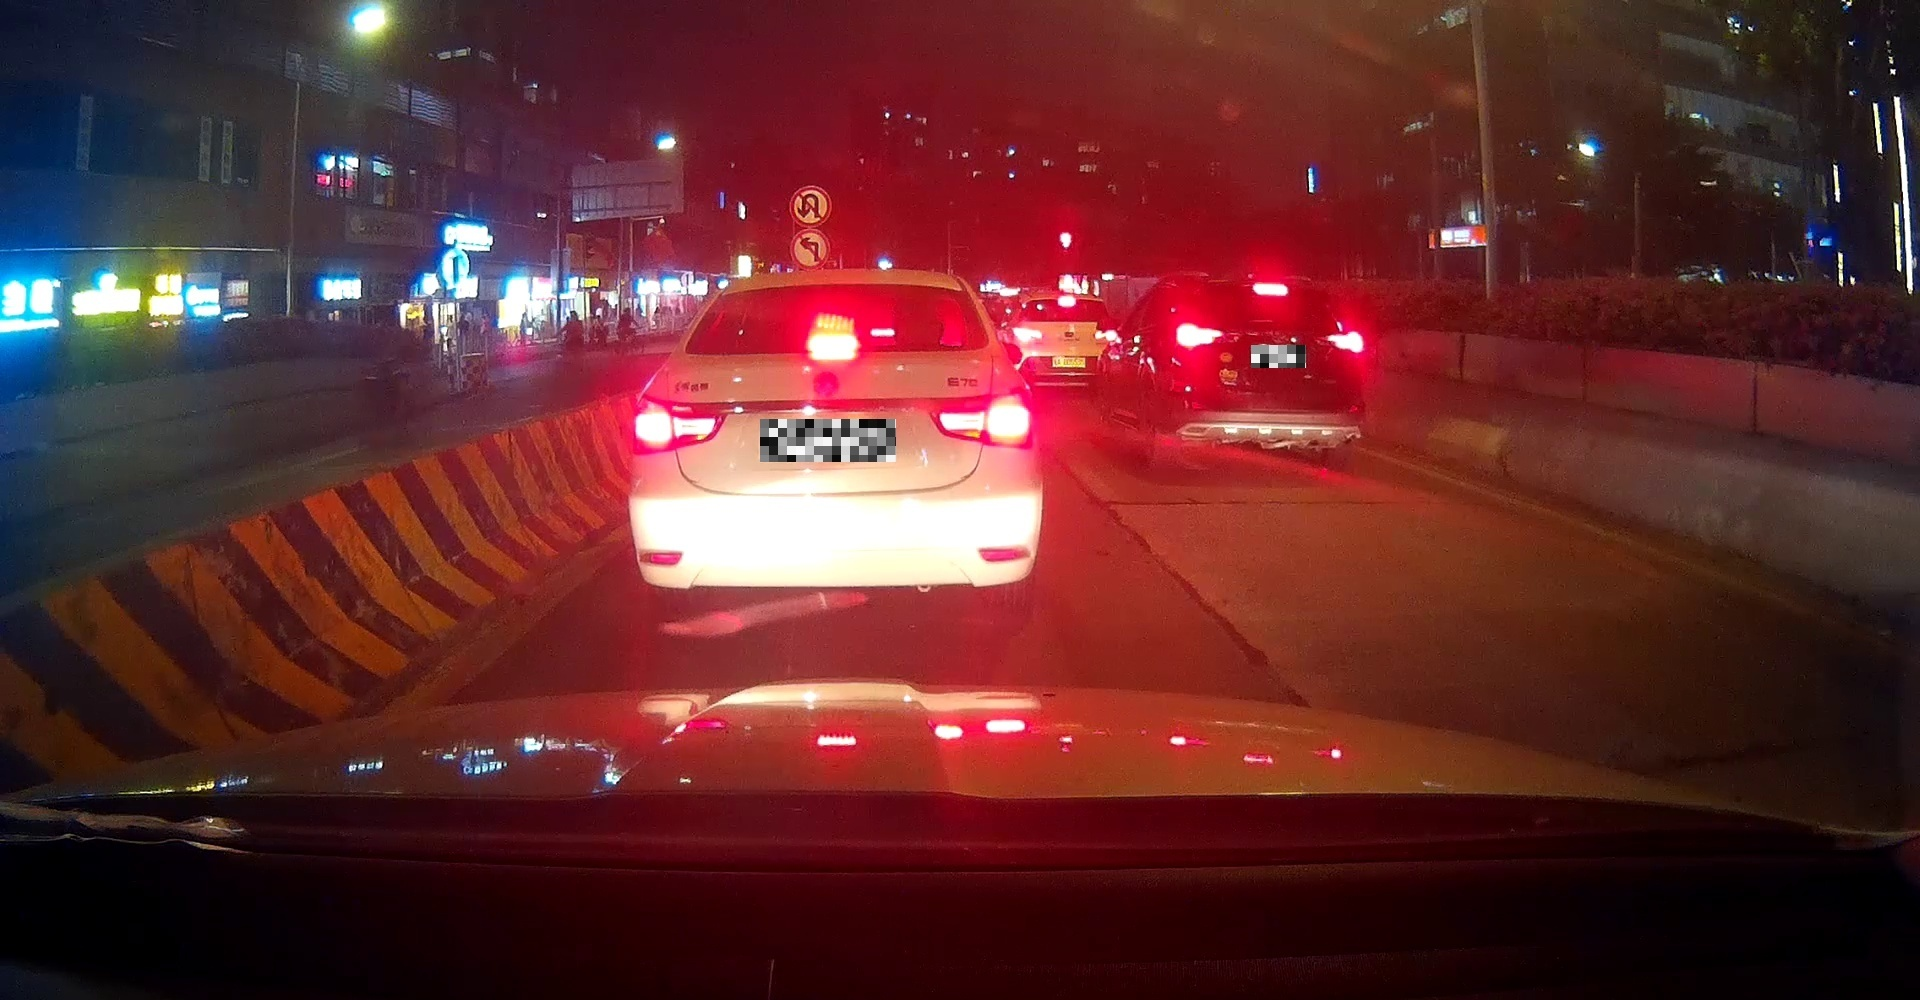L_light: (632, 393, 728, 453), (1175, 324, 1222, 346)
R_light: (928, 386, 1036, 451), (1327, 331, 1363, 353)
T_light: (806, 332, 858, 353), (1253, 282, 1288, 296)
night-brake: (626, 268, 1044, 635), (1175, 272, 1365, 471)
plate_1: (759, 419, 897, 462)
plate_2: (1251, 345, 1305, 368)
